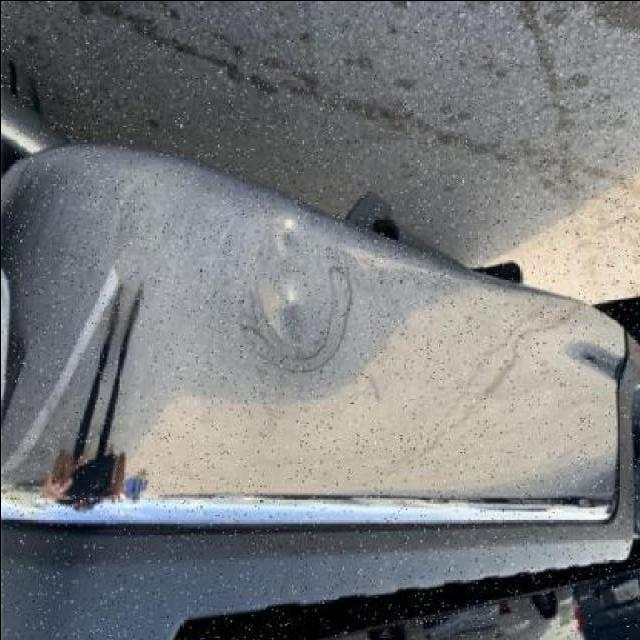rear-bumper-dent: (4, 163, 640, 579)
